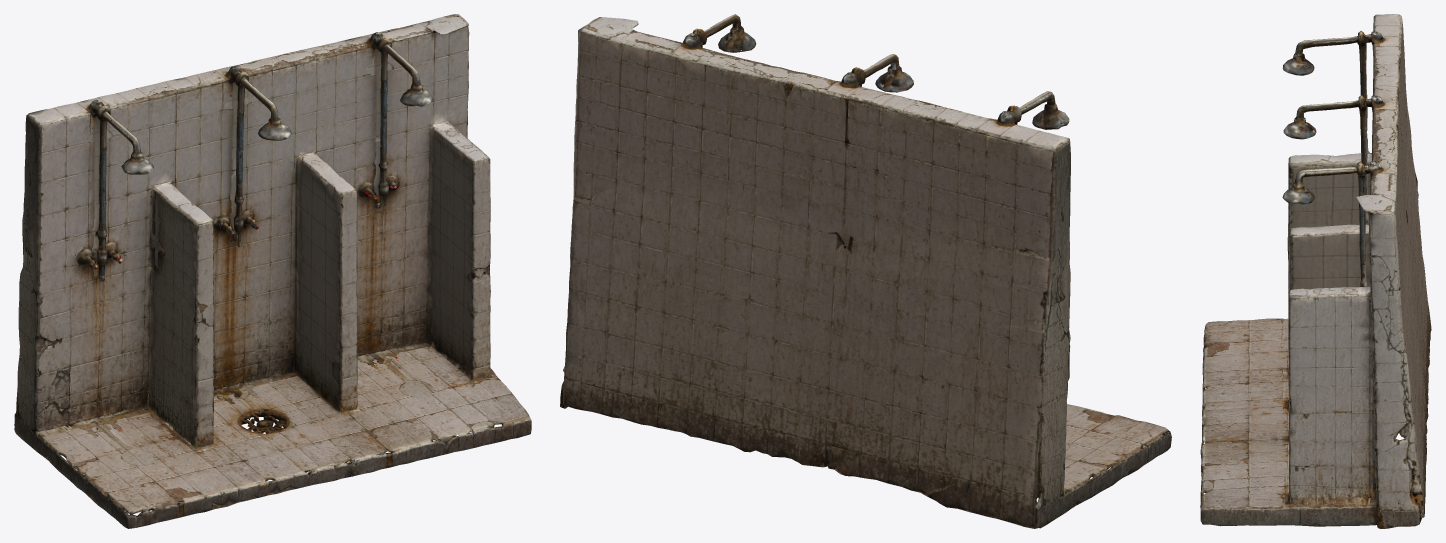
Rendered from BKI_Shower.fbx.
3 renders of one model, left to right at view 1: azimuth 30°, elevation 25°; view 2: azimuth 150°, elevation 25°; view 3: azimuth 270°, elevation 25°, orthographic. The views are drawn at different scales.
Visible parts, largest first — view 1: texture_mapping; view 2: texture_mapping; view 3: texture_mapping.
Part boxes in pixels (left/top/right/bottom): texture_mapping: left=14, top=14, right=531, bottom=528; texture_mapping: left=560, top=14, right=1171, bottom=528; texture_mapping: left=1200, top=14, right=1431, bottom=528.
Size of the model in its own units: 1 by 0.4869 by 0.7765.
1 material, 1 textured.
